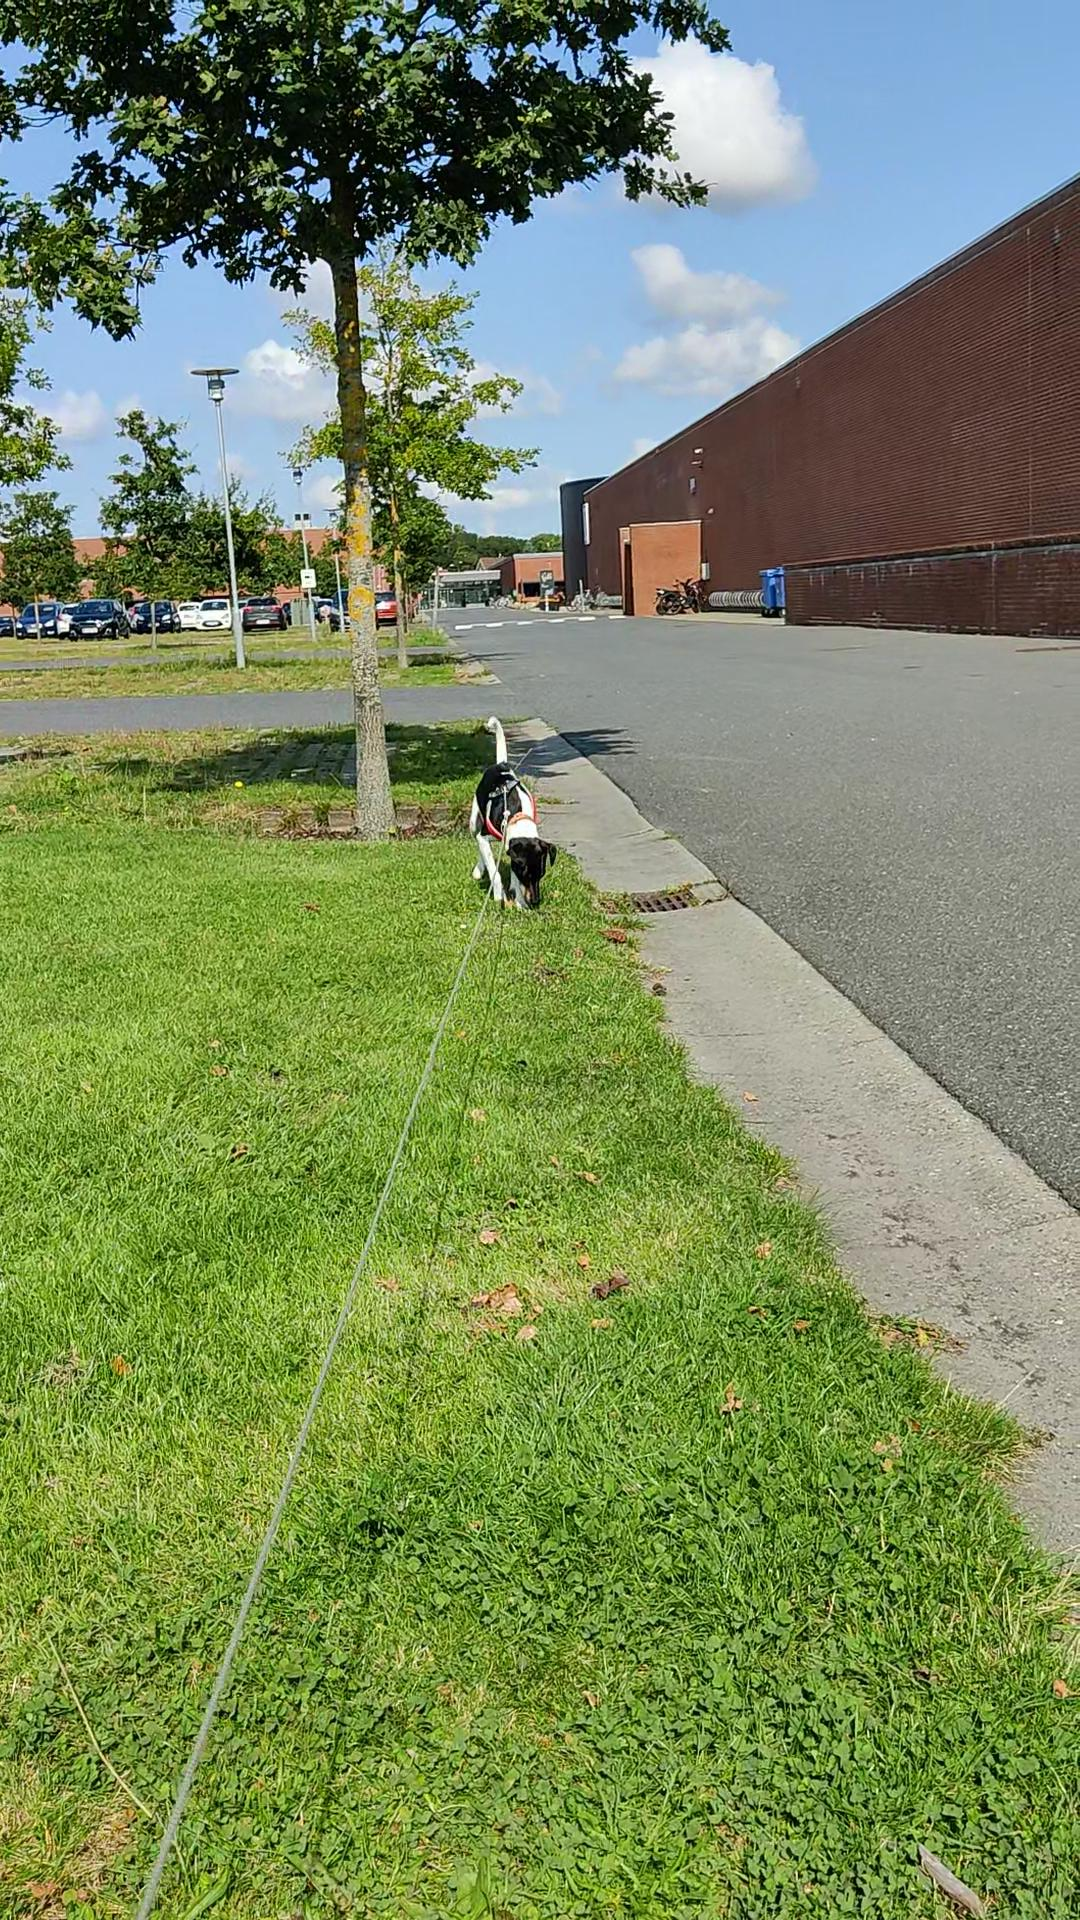Dog: (462, 713, 558, 913)
